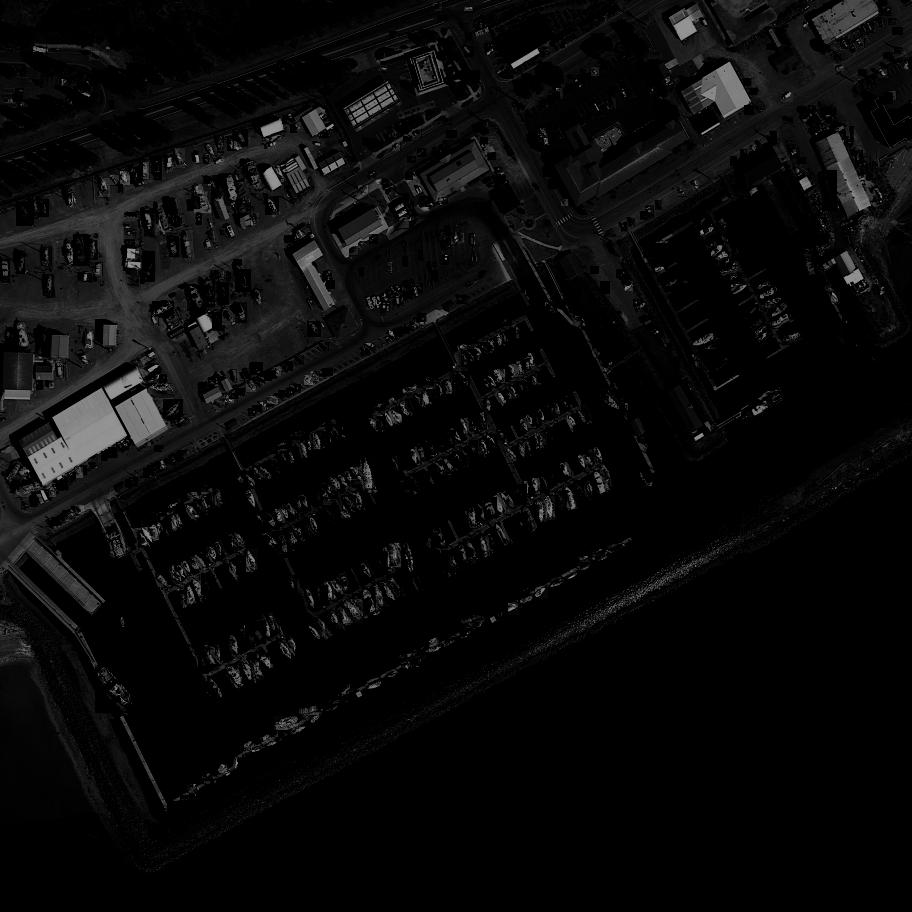large-vehicle: (823, 171, 838, 211), (844, 126, 854, 146), (781, 92, 794, 104), (420, 196, 433, 208), (191, 197, 202, 211), (823, 110, 836, 121), (803, 113, 816, 124), (367, 297, 377, 311), (33, 46, 47, 55), (600, 282, 610, 294), (372, 296, 382, 308), (833, 124, 845, 134), (465, 46, 475, 57), (152, 315, 160, 327), (473, 71, 480, 83), (390, 331, 399, 340), (205, 240, 213, 250), (471, 235, 474, 246)
ship: (95, 665, 140, 714), (742, 391, 788, 429), (831, 322, 858, 355), (244, 657, 270, 683), (131, 507, 162, 528), (226, 665, 250, 692), (710, 355, 735, 380), (378, 580, 402, 606), (246, 160, 264, 193), (388, 574, 411, 599), (601, 393, 626, 416), (194, 185, 213, 215), (802, 248, 819, 281), (352, 593, 372, 621), (110, 529, 128, 560), (260, 531, 284, 554), (5, 458, 27, 483), (74, 234, 91, 266), (285, 629, 302, 661), (403, 543, 418, 579), (187, 285, 207, 312), (35, 329, 53, 359), (342, 599, 364, 623), (207, 677, 228, 702), (224, 174, 240, 206), (441, 551, 463, 574), (196, 681, 218, 704), (360, 457, 374, 492), (600, 463, 618, 490), (494, 522, 512, 549), (162, 399, 184, 421), (370, 551, 390, 575), (15, 202, 35, 226), (304, 585, 321, 613), (521, 507, 540, 532), (484, 598, 509, 617), (202, 646, 221, 671), (644, 243, 673, 259), (15, 321, 31, 350), (692, 331, 717, 349), (181, 233, 196, 263), (284, 528, 305, 549), (248, 621, 267, 644), (156, 203, 171, 232), (372, 583, 388, 610), (464, 538, 482, 562), (15, 482, 42, 498), (258, 615, 274, 642), (768, 302, 789, 322), (240, 658, 255, 686), (316, 618, 335, 640), (277, 640, 296, 662), (322, 506, 340, 529), (143, 251, 156, 282), (342, 495, 361, 516), (358, 562, 377, 583), (509, 484, 528, 505), (235, 269, 252, 292), (563, 486, 578, 512), (278, 531, 292, 558), (210, 643, 228, 664), (593, 470, 608, 495), (152, 301, 174, 318), (697, 343, 725, 356), (364, 588, 378, 614), (396, 648, 422, 662), (273, 717, 299, 731), (253, 512, 272, 531), (758, 287, 780, 303), (493, 493, 508, 516), (434, 526, 449, 549), (665, 274, 684, 292), (293, 524, 311, 543), (329, 580, 348, 598), (166, 495, 185, 513), (259, 654, 277, 673), (264, 510, 281, 530), (581, 402, 598, 422), (64, 240, 77, 266), (389, 543, 403, 567), (236, 555, 252, 576), (264, 614, 280, 635), (220, 638, 234, 662), (399, 477, 414, 499), (502, 489, 517, 511), (244, 489, 259, 511), (782, 330, 805, 344), (144, 208, 155, 237), (479, 534, 491, 560), (693, 215, 711, 232), (323, 481, 340, 499), (307, 623, 324, 641), (337, 683, 355, 700), (743, 185, 762, 201), (448, 425, 464, 444), (239, 202, 251, 227), (459, 543, 472, 566), (469, 440, 483, 461), (477, 503, 491, 524), (233, 471, 250, 488), (717, 218, 733, 236), (186, 503, 202, 521), (414, 652, 432, 668), (198, 650, 210, 674), (555, 491, 568, 513), (516, 513, 529, 535), (437, 555, 448, 581), (424, 530, 437, 552), (461, 615, 483, 628), (212, 313, 227, 332), (142, 527, 157, 546), (218, 282, 230, 305), (310, 515, 323, 536), (574, 480, 587, 501), (485, 499, 498, 520), (235, 303, 248, 324), (174, 148, 187, 169), (638, 470, 651, 491), (390, 407, 406, 424), (259, 464, 275, 481), (233, 130, 249, 147), (773, 314, 791, 329), (453, 451, 468, 469), (460, 447, 475, 465), (456, 371, 471, 389), (245, 471, 260, 489), (731, 285, 750, 299), (433, 434, 447, 453), (266, 196, 280, 215), (330, 610, 342, 632), (246, 550, 258, 572), (229, 635, 241, 657), (307, 321, 323, 337), (367, 419, 382, 436), (435, 461, 450, 478), (398, 454, 413, 471), (368, 678, 385, 693), (194, 553, 209, 570), (233, 531, 248, 548), (43, 274, 54, 297), (179, 590, 190, 613), (337, 473, 351, 491), (317, 586, 329, 607), (487, 434, 501, 452), (329, 424, 343, 442), (193, 580, 205, 601), (273, 437, 292, 450), (731, 242, 744, 261), (206, 280, 215, 307), (246, 622, 255, 649), (209, 178, 220, 200), (750, 317, 766, 332), (711, 244, 727, 259), (384, 548, 394, 572), (324, 581, 336, 601), (580, 560, 596, 575), (608, 545, 628, 557), (252, 466, 267, 482), (156, 573, 171, 589), (706, 239, 723, 253), (443, 457, 457, 474), (174, 511, 188, 528), (130, 168, 144, 185), (338, 695, 355, 709), (742, 305, 760, 318), (753, 324, 771, 337), (300, 494, 313, 512), (289, 430, 310, 441), (281, 503, 293, 522), (584, 480, 596, 499), (138, 530, 150, 549), (518, 596, 537, 608), (758, 330, 773, 345), (292, 497, 307, 512), (547, 496, 556, 521), (537, 501, 546, 526), (308, 712, 323, 727), (316, 431, 331, 446), (545, 301, 560, 316), (286, 502, 300, 518), (229, 561, 243, 577), (485, 531, 498, 548), (323, 704, 340, 717), (177, 564, 190, 581), (341, 573, 351, 595), (289, 575, 299, 597), (169, 236, 179, 258), (89, 240, 100, 260), (201, 574, 211, 596), (592, 447, 604, 465), (392, 457, 404, 475), (1, 259, 10, 283), (16, 250, 25, 274), (227, 535, 239, 553), (460, 628, 475, 642), (222, 310, 236, 325), (506, 450, 520, 465), (755, 282, 774, 293), (765, 298, 784, 309), (460, 419, 471, 438), (444, 430, 455, 449), (253, 290, 264, 309), (524, 439, 535, 458), (560, 463, 573, 479), (550, 578, 566, 591), (466, 416, 479, 432), (292, 723, 308, 736), (470, 506, 479, 529), (66, 187, 75, 210), (539, 475, 551, 492), (504, 604, 521, 616), (214, 541, 226, 558), (304, 519, 314, 539), (42, 247, 52, 267), (300, 706, 320, 716), (699, 226, 717, 237), (341, 498, 350, 520), (39, 199, 50, 217), (278, 729, 292, 743), (552, 468, 565, 483), (466, 349, 479, 364), (525, 415, 538, 430), (545, 427, 558, 442), (576, 456, 588, 472), (148, 384, 172, 392), (314, 487, 324, 506), (100, 179, 110, 198), (281, 451, 291, 470), (187, 584, 196, 605), (411, 449, 422, 466), (156, 521, 167, 538), (154, 157, 162, 180), (331, 478, 344, 492), (582, 454, 595, 468), (494, 370, 507, 384), (204, 144, 217, 158), (475, 620, 489, 633), (495, 392, 508, 406), (535, 433, 549, 446), (546, 405, 559, 419), (729, 279, 744, 291), (720, 266, 738, 276), (414, 395, 426, 410), (535, 587, 550, 599), (487, 373, 499, 388), (120, 172, 132, 187), (194, 500, 206, 515), (501, 367, 512, 383), (209, 546, 220, 562), (215, 488, 224, 507), (401, 385, 418, 395), (422, 391, 432, 408), (337, 418, 347, 435), (151, 524, 161, 541), (202, 497, 212, 514), (720, 259, 733, 272), (429, 390, 442, 403), (859, 156, 872, 169), (516, 381, 529, 394), (376, 416, 388, 430), (351, 468, 363, 482), (399, 404, 411, 418), (480, 410, 488, 431), (318, 416, 332, 428), (610, 380, 622, 394), (560, 397, 572, 411), (576, 411, 588, 425), (444, 638, 459, 649), (184, 561, 195, 576), (519, 418, 530, 433), (418, 444, 427, 462), (300, 442, 309, 460), (386, 411, 396, 427), (357, 491, 365, 511), (276, 509, 286, 525), (406, 399, 417, 413), (508, 364, 519, 378), (480, 342, 491, 356), (273, 458, 284, 472), (510, 385, 521, 399), (533, 478, 542, 495), (480, 439, 489, 456), (436, 382, 445, 399), (427, 438, 436, 455), (228, 137, 238, 152), (385, 671, 400, 681), (411, 473, 419, 491), (170, 514, 178, 532), (85, 331, 93, 349), (172, 565, 180, 583), (592, 346, 604, 358), (497, 429, 509, 441), (474, 346, 485, 359), (831, 291, 841, 305), (324, 430, 334, 444), (539, 409, 549, 423), (534, 413, 544, 427), (321, 483, 329, 500), (313, 434, 321, 451), (725, 274, 740, 283), (715, 254, 730, 263), (595, 555, 610, 564), (429, 647, 444, 656), (203, 549, 212, 564), (501, 317, 513, 328), (323, 697, 335, 708), (167, 801, 178, 813), (245, 740, 257, 751), (487, 338, 497, 351), (259, 733, 272, 743), (567, 416, 577, 429), (462, 352, 470, 368), (452, 374, 460, 390), (445, 379, 453, 395), (191, 556, 199, 572), (517, 443, 525, 459), (346, 470, 355, 484), (523, 481, 532, 495), (484, 399, 493, 413), (621, 399, 630, 413), (422, 376, 434, 386), (549, 471, 557, 486), (202, 773, 214, 783), (288, 451, 296, 466), (210, 495, 218, 510), (856, 150, 864, 165), (533, 436, 541, 451), (166, 156, 173, 173), (266, 447, 279, 456), (422, 471, 430, 485), (96, 263, 104, 277), (217, 136, 224, 152), (516, 361, 524, 375), (218, 764, 229, 774), (430, 637, 440, 648), (536, 371, 546, 382), (33, 197, 38, 218), (578, 555, 591, 563), (173, 419, 186, 427), (401, 664, 414, 672), (252, 747, 265, 755), (529, 354, 537, 367), (496, 611, 506, 621), (372, 404, 386, 411), (555, 402, 562, 416), (509, 328, 517, 340), (180, 796, 192, 804), (266, 740, 278, 748), (505, 388, 512, 401), (531, 374, 538, 387), (524, 378, 531, 391), (409, 214, 419, 223), (842, 316, 851, 326), (522, 588, 532, 597), (513, 325, 523, 334), (469, 335, 478, 345), (483, 380, 491, 391), (125, 239, 136, 247), (407, 201, 415, 212), (144, 162, 149, 179), (496, 335, 503, 347), (119, 617, 126, 629), (210, 779, 219, 788), (6, 328, 11, 344), (564, 295, 572, 305), (502, 332, 508, 345), (187, 492, 200, 498), (524, 358, 530, 371), (457, 343, 468, 350), (157, 509, 168, 516), (187, 783, 198, 790), (445, 225, 452, 236), (58, 363, 63, 378), (555, 424, 560, 439), (691, 354, 699, 363), (37, 381, 44, 391), (591, 549, 605, 554), (696, 361, 703, 371), (307, 441, 313, 452), (581, 318, 587, 329), (569, 306, 577, 314), (200, 486, 209, 493), (656, 266, 666, 272), (387, 398, 397, 404), (243, 754, 253, 760), (599, 359, 606, 367), (235, 760, 240, 770), (492, 535, 498, 542), (657, 274, 662, 282), (575, 314, 581, 320), (194, 789, 200, 793), (258, 647, 262, 653), (602, 389, 607, 393), (871, 358, 874, 363)
small-vehicle: (250, 363, 263, 377), (617, 51, 629, 63), (827, 115, 839, 126), (246, 381, 257, 393), (636, 303, 647, 314), (479, 270, 490, 281), (791, 148, 802, 159), (399, 217, 410, 228), (283, 361, 294, 372), (116, 442, 127, 453), (108, 448, 119, 459), (243, 368, 253, 380), (266, 370, 278, 380), (451, 232, 460, 245), (543, 167, 553, 178), (457, 295, 468, 305), (574, 78, 584, 89), (840, 40, 851, 50), (884, 94, 894, 105), (856, 38, 866, 49), (110, 176, 120, 187), (359, 185, 370, 195), (304, 376, 315, 386), (59, 480, 69, 491), (848, 44, 857, 56), (214, 401, 226, 410), (198, 383, 207, 395), (265, 141, 277, 150), (124, 437, 133, 449), (230, 370, 238, 383), (75, 466, 83, 479), (549, 179, 559, 189), (625, 282, 635, 292), (536, 130, 546, 140), (540, 128, 550, 138), (417, 313, 427, 323), (648, 87, 658, 97), (797, 157, 807, 167), (744, 106, 754, 116), (323, 270, 333, 280), (225, 394, 235, 404), (75, 505, 85, 515), (151, 464, 161, 474), (129, 477, 139, 487), (295, 356, 305, 366), (67, 472, 77, 482), (482, 176, 493, 185), (617, 269, 628, 278), (412, 130, 423, 139), (862, 24, 871, 35), (892, 27, 903, 36), (783, 117, 794, 126), (284, 235, 295, 244), (89, 52, 100, 61), (485, 48, 496, 57), (156, 461, 165, 472), (311, 372, 320, 383), (322, 368, 333, 377), (278, 364, 289, 373), (646, 206, 654, 218), (81, 354, 89, 366), (47, 519, 55, 531), (261, 374, 273, 382), (31, 495, 39, 507), (159, 375, 168, 385), (634, 299, 644, 308), (590, 266, 600, 275), (532, 183, 541, 193), (621, 277, 631, 286), (677, 188, 687, 197), (389, 128, 398, 138), (370, 234, 379, 244), (565, 84, 574, 94), (878, 70, 887, 80), (879, 96, 888, 106), (604, 101, 613, 111), (559, 117, 568, 127), (562, 113, 571, 123), (567, 110, 576, 120), (591, 68, 601, 77), (800, 110, 810, 119), (215, 156, 225, 165), (349, 247, 359, 256), (51, 518, 60, 528), (405, 172, 415, 181), (320, 342, 330, 351), (273, 367, 282, 377), (258, 402, 268, 411), (556, 89, 564, 100), (628, 217, 636, 228), (446, 131, 457, 139), (834, 65, 845, 73), (608, 99, 616, 110), (277, 60, 288, 68), (147, 465, 155, 476), (290, 384, 301, 392), (268, 396, 279, 404), (386, 262, 393, 274), (361, 348, 370, 357), (403, 281, 412, 290), (392, 142, 401, 151), (884, 8, 893, 17), (803, 22, 812, 31), (544, 64, 553, 73), (744, 78, 753, 87), (418, 148, 427, 157), (368, 171, 377, 180), (327, 280, 336, 289), (172, 454, 181, 463), (257, 377, 266, 386), (104, 449, 113, 458), (56, 482, 65, 491), (52, 485, 61, 494), (22, 501, 31, 510), (487, 152, 497, 160), (866, 23, 874, 33), (654, 97, 664, 105), (584, 73, 592, 83), (751, 145, 759, 155), (730, 156, 738, 166), (208, 377, 216, 387), (210, 271, 220, 279), (282, 115, 290, 125), (71, 506, 79, 516), (287, 113, 295, 123), (160, 460, 168, 470), (236, 389, 246, 397), (251, 379, 261, 387), (121, 440, 129, 450), (49, 487, 57, 497), (248, 409, 258, 417), (365, 344, 376, 351), (692, 180, 699, 191), (665, 378, 672, 389), (432, 271, 439, 282), (609, 86, 616, 97), (14, 107, 25, 114), (144, 468, 151, 479), (501, 180, 510, 188), (480, 138, 489, 146), (547, 96, 556, 104), (544, 98, 552, 107), (525, 109, 533, 118), (622, 90, 630, 99), (395, 329, 403, 338), (400, 284, 408, 293), (395, 284, 403, 293), (552, 92, 560, 101), (879, 0, 887, 9), (865, 79, 874, 87), (859, 69, 868, 77), (234, 259, 243, 267), (294, 123, 302, 132), (434, 3, 443, 11), (386, 188, 394, 197), (278, 391, 290, 397), (656, 200, 663, 210), (622, 222, 629, 232), (399, 328, 409, 335), (417, 284, 424, 294), (443, 119, 453, 126), (438, 198, 448, 205), (441, 241, 448, 251), (458, 233, 465, 243), (378, 295, 385, 305), (890, 91, 897, 101), (896, 109, 903, 119), (771, 132, 778, 142), (407, 157, 417, 164), (136, 110, 146, 117), (213, 375, 220, 385), (220, 398, 230, 405), (177, 450, 184, 460), (291, 124, 298, 134), (69, 509, 76, 519), (403, 193, 410, 203), (81, 466, 88, 476), (252, 406, 262, 413), (381, 304, 387, 315), (444, 255, 450, 266), (134, 181, 145, 187), (187, 200, 193, 211), (196, 214, 202, 225), (263, 402, 274, 408), (483, 142, 491, 150), (550, 133, 558, 141), (601, 62, 609, 70), (788, 145, 796, 153), (359, 242, 367, 250), (253, 214, 261, 222), (562, 199, 569, 208), (497, 176, 506, 183), (539, 100, 546, 109), (641, 211, 648, 220), (391, 286, 398, 295), (579, 75, 586, 84), (646, 83, 655, 90), (766, 43, 775, 50), (741, 151, 748, 160), (125, 479, 132, 488), (64, 476, 71, 485), (404, 326, 414, 332), (408, 290, 414, 300), (415, 319, 425, 325), (426, 262, 432, 272), (547, 124, 553, 134), (77, 272, 83, 282), (54, 103, 60, 113), (229, 393, 239, 399), (171, 455, 177, 465), (378, 67, 388, 73), (102, 451, 108, 461), (410, 321, 418, 328), (465, 33, 472, 41), (316, 373, 327, 378), (619, 274, 628, 280), (872, 76, 878, 85), (552, 122, 558, 131), (808, 106, 817, 112), (15, 88, 24, 94), (63, 511, 69, 520), (60, 514, 66, 523), (154, 445, 163, 451), (485, 44, 494, 50), (458, 22, 464, 31), (286, 389, 295, 395), (84, 272, 89, 282), (125, 213, 135, 218), (15, 103, 25, 108), (5, 47, 15, 52), (497, 172, 505, 178), (409, 279, 415, 287), (888, 19, 896, 25), (894, 48, 902, 54), (587, 112, 593, 120), (750, 90, 758, 96), (413, 287, 418, 296), (395, 296, 400, 305), (877, 18, 882, 27), (319, 133, 328, 138), (797, 107, 806, 112), (204, 155, 209, 164), (240, 372, 245, 381), (57, 516, 62, 525), (438, 15, 447, 20), (72, 470, 77, 479), (418, 249, 422, 260), (494, 168, 502, 173), (386, 302, 390, 312), (404, 137, 412, 142), (403, 256, 407, 266), (384, 294, 389, 302), (884, 53, 892, 58), (109, 100, 114, 108), (5, 98, 13, 103), (4, 113, 13, 117), (274, 394, 283, 398), (786, 142, 793, 147), (118, 185, 123, 192), (359, 268, 364, 275), (487, 182, 495, 186), (400, 296, 404, 304), (389, 32, 397, 36), (448, 239, 451, 248), (227, 272, 230, 281), (14, 93, 23, 96), (544, 139, 548, 145), (403, 292, 406, 300), (221, 271, 224, 279), (178, 104, 186, 107), (465, 8, 473, 11), (82, 50, 89, 53), (15, 99, 22, 102), (52, 48, 59, 51), (89, 273, 91, 282)
